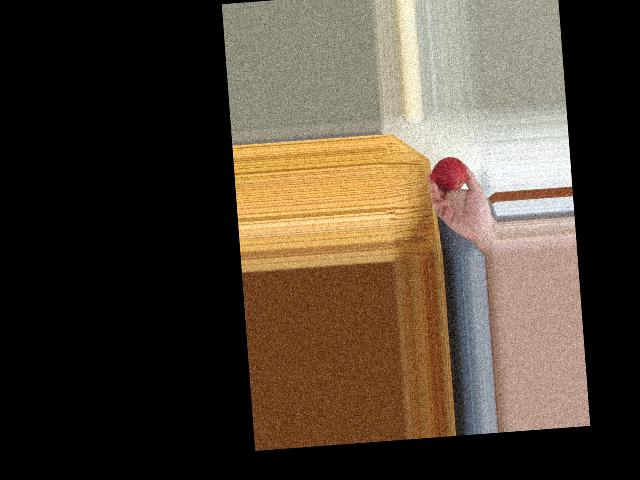apple: (430, 153, 468, 192)
